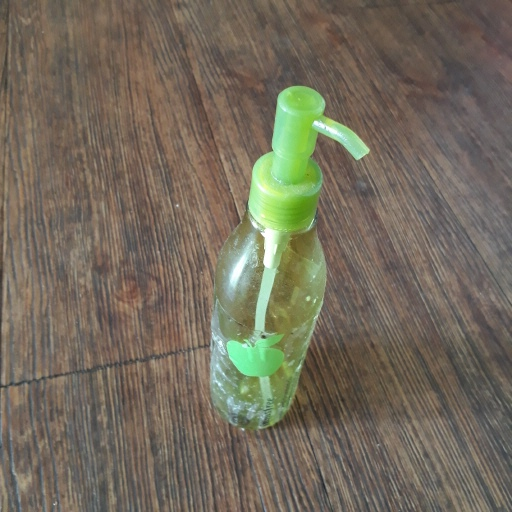Plastic_3: (208, 84, 368, 430)
